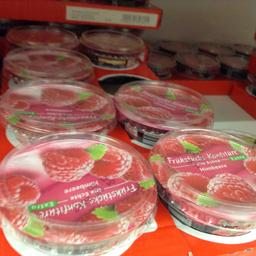jam: (0, 129, 155, 255), (148, 126, 254, 233), (113, 78, 217, 143), (0, 79, 115, 135), (1, 44, 90, 78), (80, 24, 144, 67)
